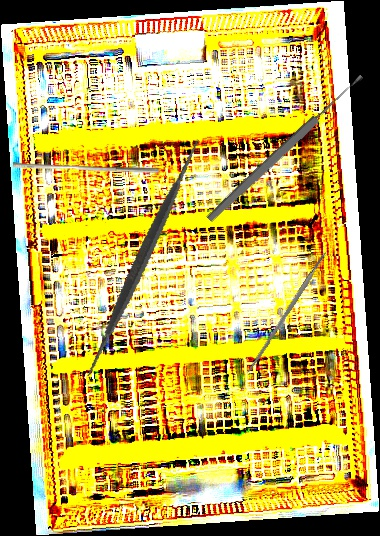Pusher: (13, 162, 159, 173)
Scalpel Handle: (245, 250, 329, 376)
Spatula Surgical: (19, 135, 268, 381)
Surgical Spoon: (204, 72, 367, 224)
